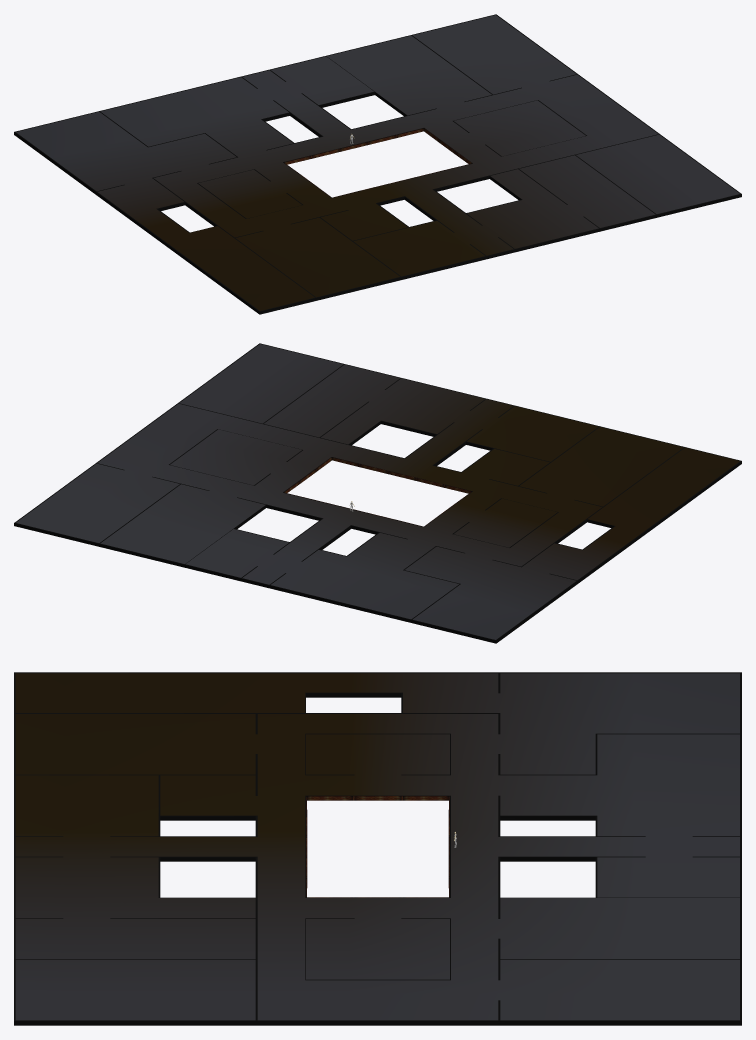
The model's file is Floor 1 V1 - Lobby Ceiling.fbx.
3 views of the same model, one above another, from view 1: azimuth 30°, elevation 25°; view 2: azimuth 150°, elevation 25°; view 3: azimuth 270°, elevation 25° (orthographic). The views are drawn at different scales.
Visible parts, largest first — view 1: Lobby Floor; view 2: Lobby Floor; view 3: Lobby Floor.
Boxes of the visible parts, x1,y1,x2,y2 form: Lobby Floor: (14,14,741,314); Lobby Floor: (14,343,741,643); Lobby Floor: (14,672,741,1025).
Bounding box in the file's own units: 84.97 × 74.98 × 2.2.
